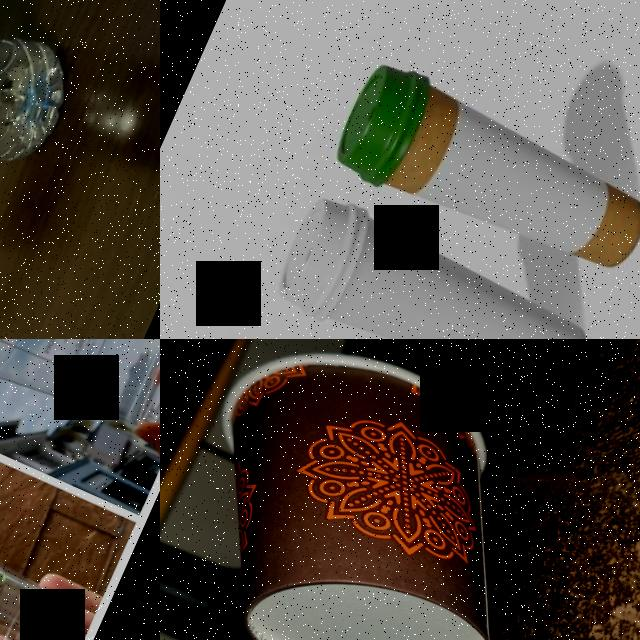bottle: (0, 0, 101, 269)
cup: (160, 339, 588, 640), (326, 52, 640, 295), (264, 184, 605, 339), (0, 339, 160, 465), (0, 464, 84, 640)
